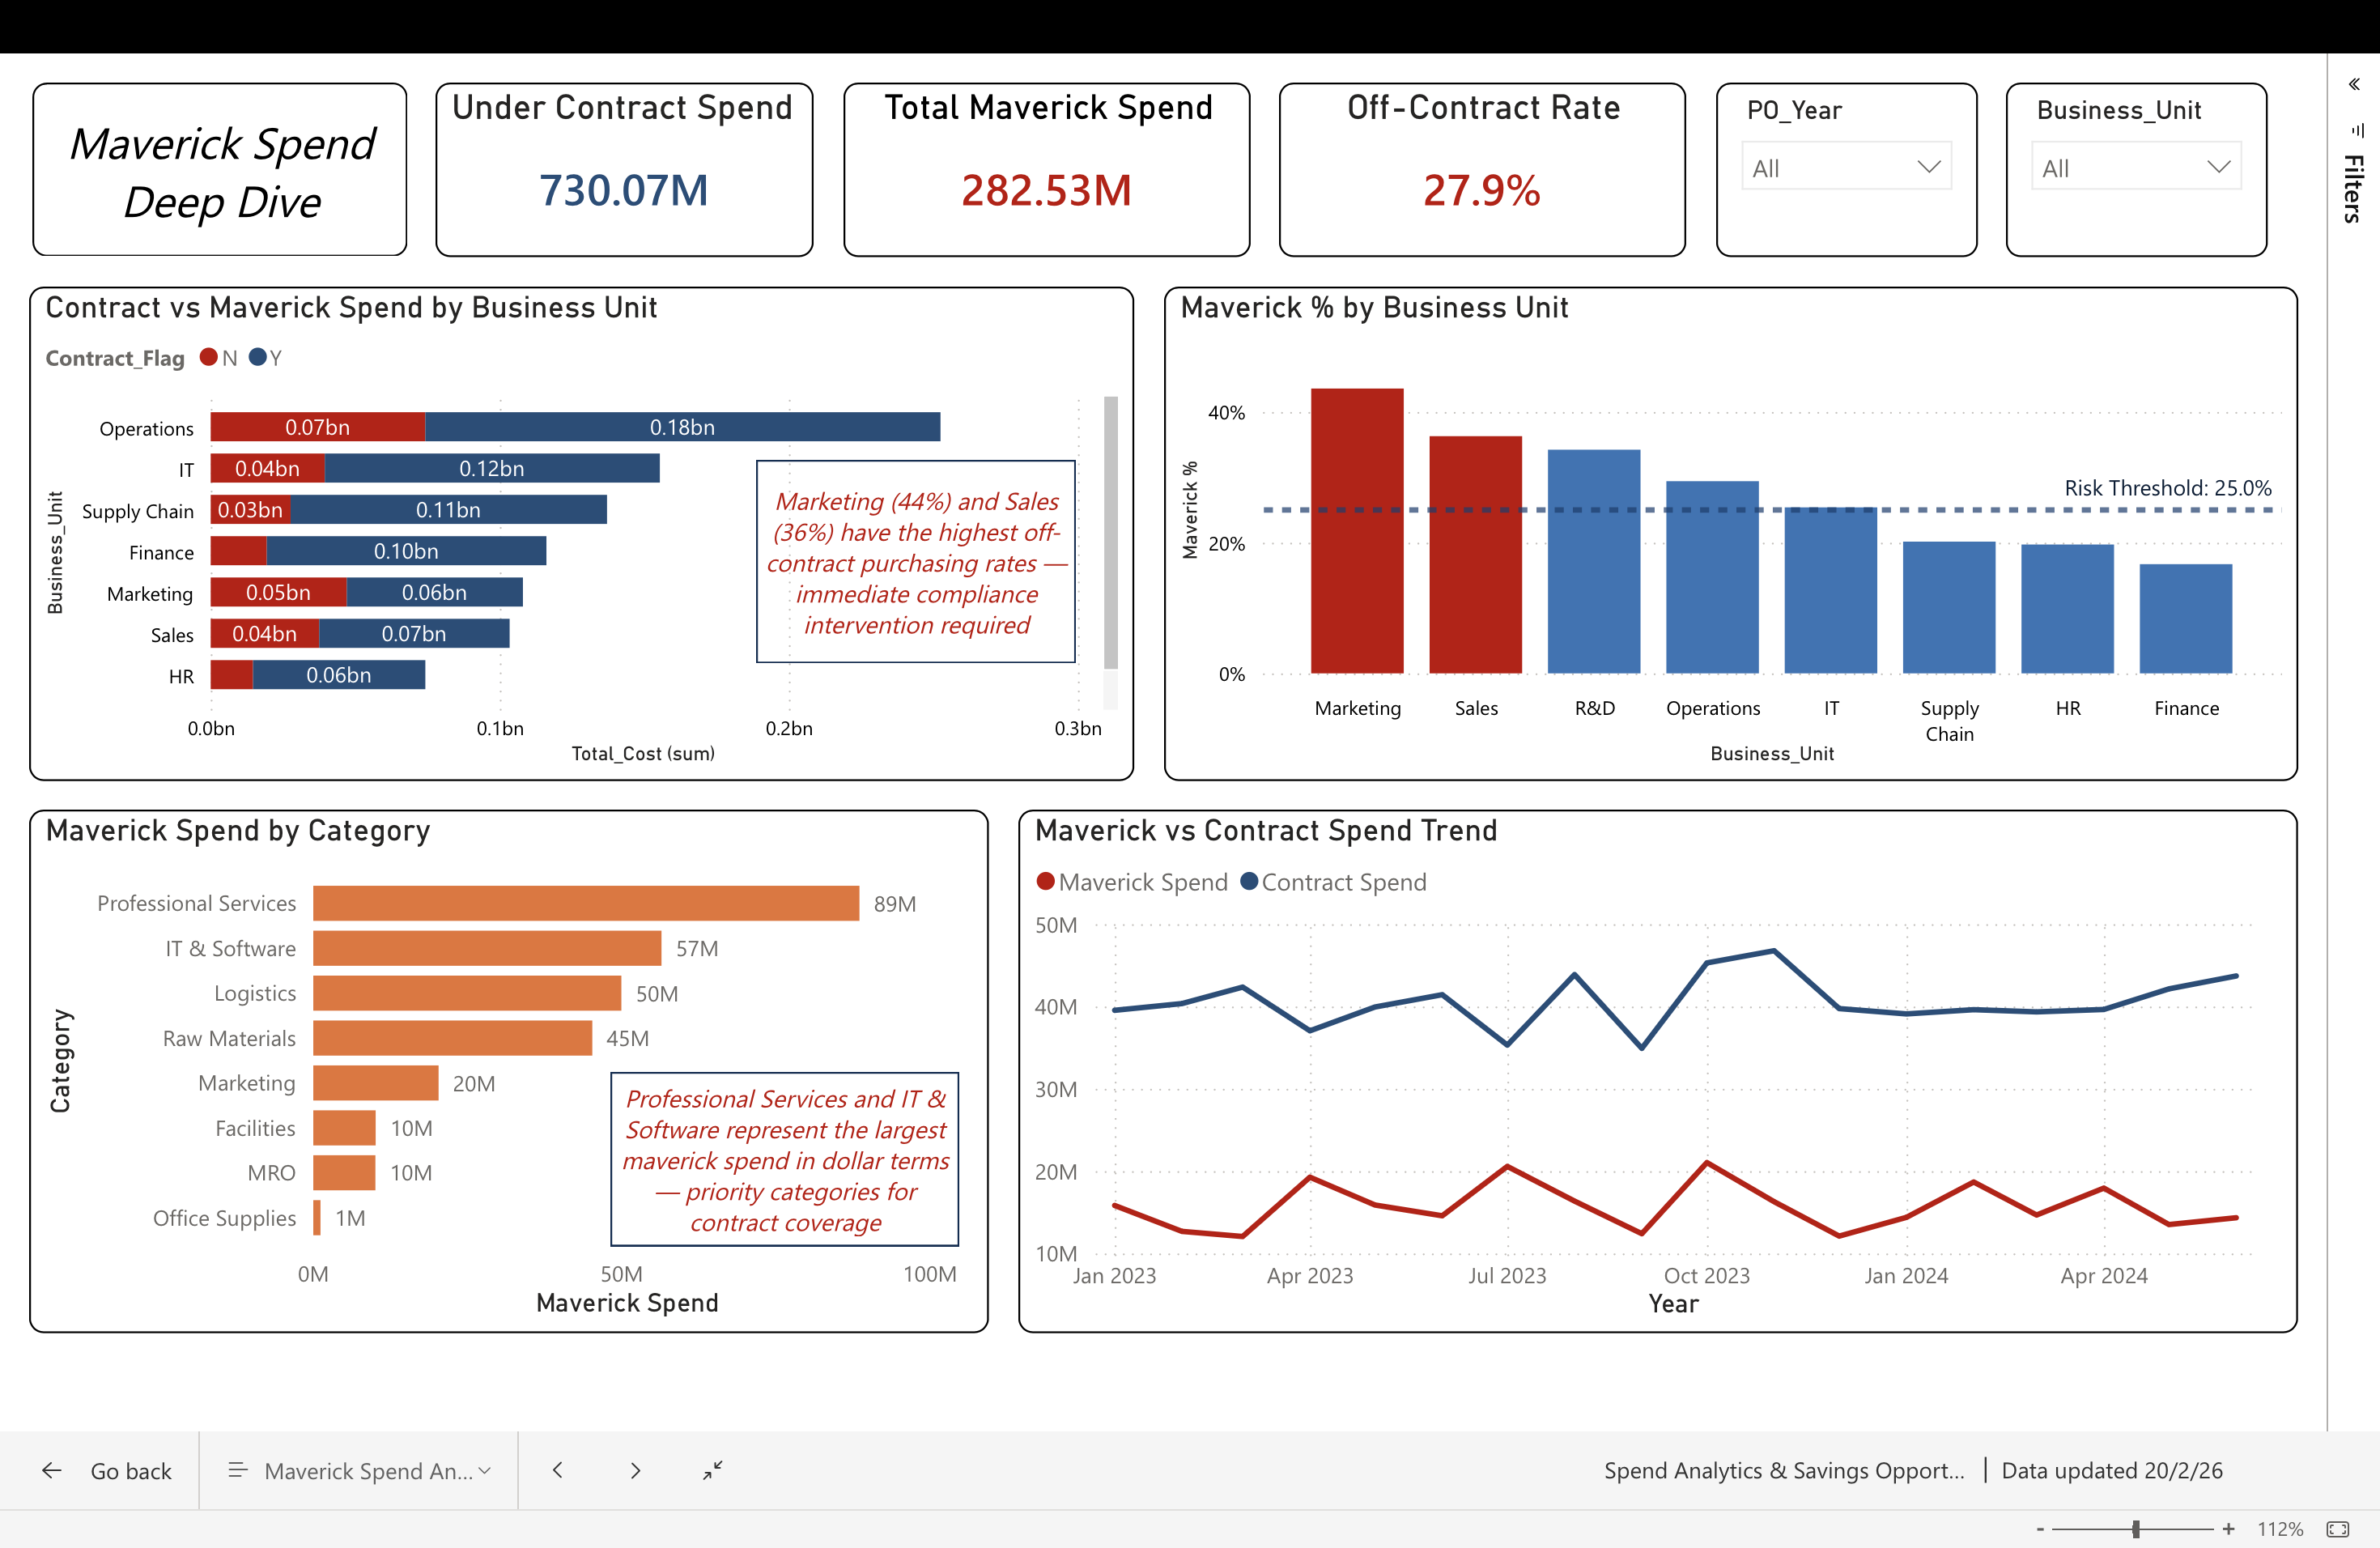

The page's visual inventory and layout, read from the dashboard file:
{"tool":"powerbi","page":{"name":"Maverick Spend Analysis","canvas":[1280,720],"ordinal":2},"visuals":[{"type":"shape","box":[18,16,206.4,95.7],"z":0},{"type":"cardVisual","title":"Off-Contract Rate","fields":{"Data":["dashboard_main.Maverick %"]},"box":[704,16,224,96],"z":1},{"type":"cardVisual","title":"Total Maverick Spend","fields":{"Data":["dashboard_main.Maverick Spend"]},"box":[464,16,224,96],"z":2},{"type":"cardVisual","title":"Under Contract Spend","fields":{"Data":["dashboard_main.Contract Spend"]},"box":[240,16,208,96],"z":3},{"type":"slicer","fields":{"Values":["dashboard_main.PO_Year"]},"box":[944,16,144,96],"z":4},{"type":"slicer","fields":{"Values":["dashboard_main.Business_Unit"]},"box":[1104,16,144,96],"z":5},{"type":"barChart","title":"Contract vs Maverick Spend by Business Unit","fields":{"Y":["Sum(dashboard_main.Total_Cost)"],"Category":["dashboard_main.Business_Unit"],"Series":["dashboard_main.Contract_Flag"]},"box":[16,128,608,272],"z":6},{"type":"clusteredColumnChart","title":"Maverick % by Business Unit","fields":{"Category":["dashboard_main.Business_Unit"],"Y":["dashboard_main.Maverick %"]},"box":[640,128,624,272],"z":7},{"type":"shape","box":[416,224,176,112],"z":8},{"type":"clusteredBarChart","fields":{"Category":["dashboard_main.Category"],"Y":["dashboard_main.Maverick Spend"]},"box":[16,416,528,288],"z":9},{"type":"lineChart","title":"Maverick vs Contract Spend Trend","fields":{"Y":["dashboard_main.Maverick Spend","dashboard_main.Contract Spend"],"Category":["dashboard_main.PO_Date.Variation.Date Hierarchy.Year","dashboard_main.PO_Date.Variation.Date Hierarchy.Month"]},"box":[560,416,704,288],"z":10},{"type":"shape","box":[336,560,192,96],"z":11}]}

Visuals, with their boxes on the page's 1280x720 design canvas (x1, y1, x2, y2). These are canvas units, not pixel positions in the 2380x1548 screenshot, which may show the page scaled, cropped or inside an application window:
shape: x1=18 y1=16 x2=224 y2=112
"Off-Contract Rate" cardVisual: x1=704 y1=16 x2=928 y2=112
"Total Maverick Spend" cardVisual: x1=464 y1=16 x2=688 y2=112
"Under Contract Spend" cardVisual: x1=240 y1=16 x2=448 y2=112
slicer - dashboard_main.PO_Year: x1=944 y1=16 x2=1088 y2=112
slicer - dashboard_main.Business_Unit: x1=1104 y1=16 x2=1248 y2=112
"Contract vs Maverick Spend by Business Unit" barChart: x1=16 y1=128 x2=624 y2=400
"Maverick % by Business Unit" clusteredColumnChart: x1=640 y1=128 x2=1264 y2=400
shape: x1=416 y1=224 x2=592 y2=336
clusteredBarChart - dashboard_main.Category x dashboard_main.Maverick Spend: x1=16 y1=416 x2=544 y2=704
"Maverick vs Contract Spend Trend" lineChart: x1=560 y1=416 x2=1264 y2=704
shape: x1=336 y1=560 x2=528 y2=656
